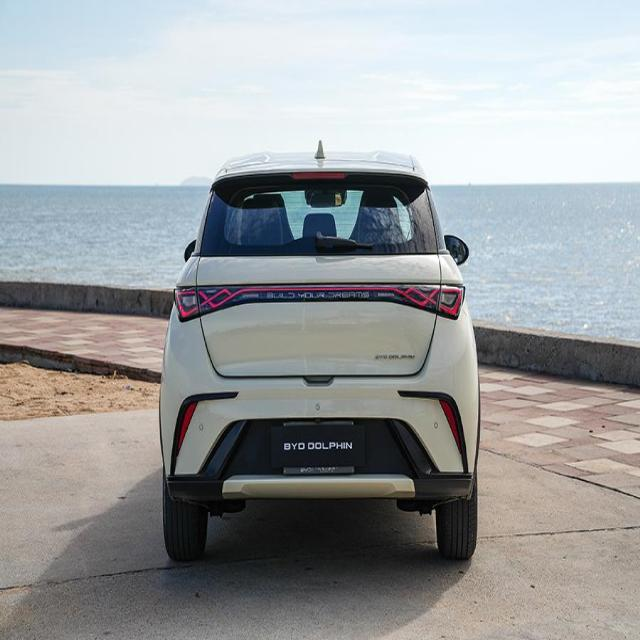Hatchback: (158, 142, 481, 564)
